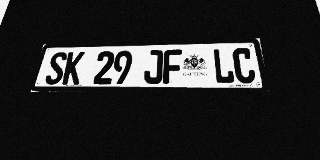2: (93, 51, 115, 84)
9: (112, 50, 133, 84)
C: (232, 48, 257, 84)
F: (163, 49, 182, 84)
J: (143, 50, 163, 84)
K: (62, 52, 85, 84)
L: (212, 48, 235, 84)
S: (44, 52, 68, 85)
